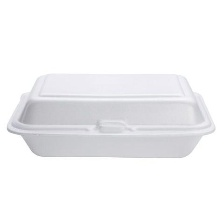foam_box: (3, 66, 218, 163)
